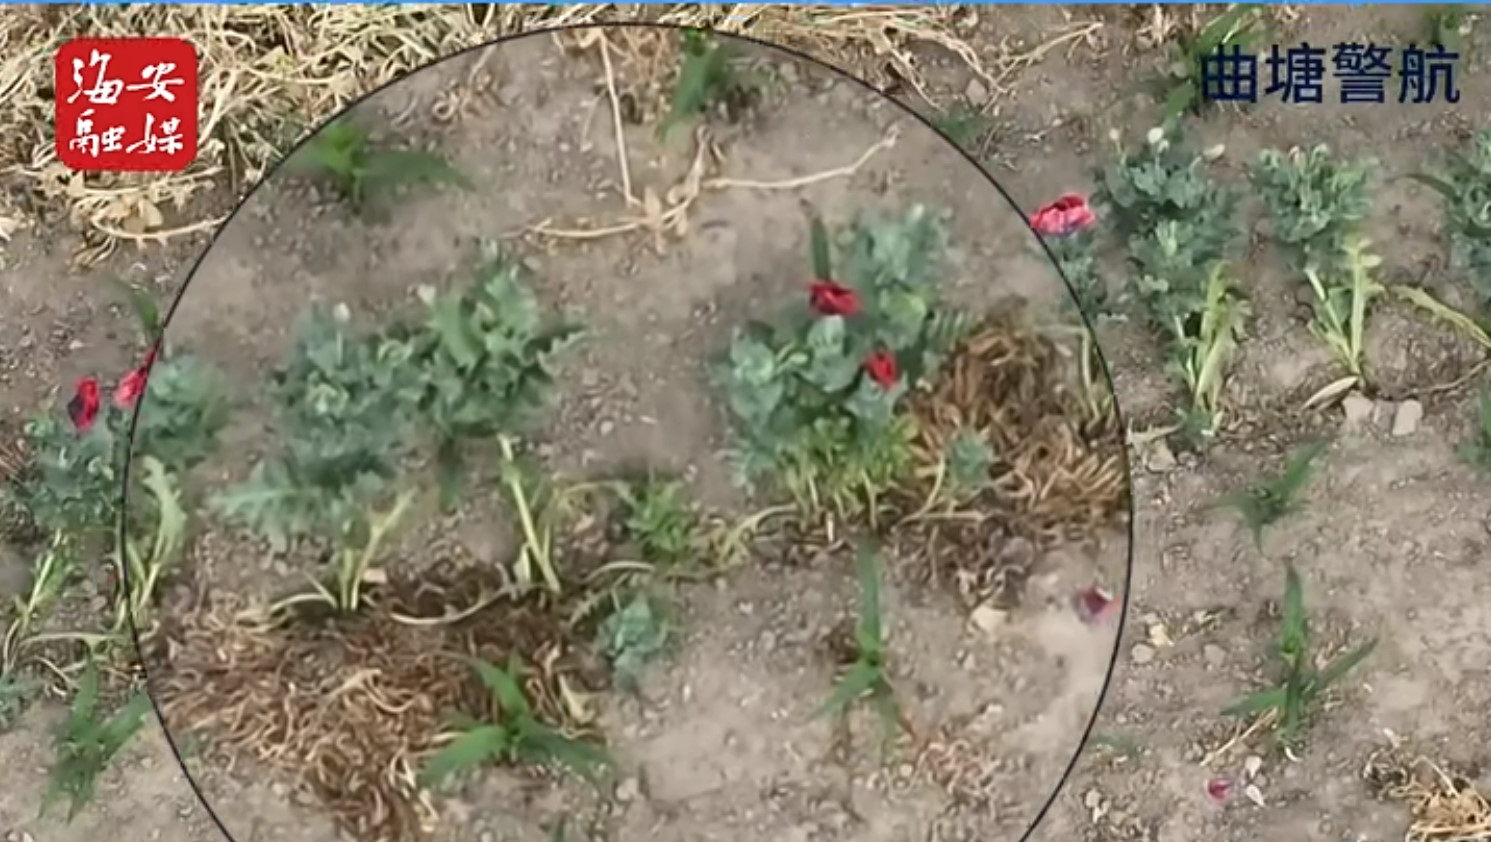Poppy: (249, 260, 588, 616), (710, 173, 990, 523), (1018, 102, 1256, 468), (22, 310, 235, 645), (1241, 127, 1401, 389)
